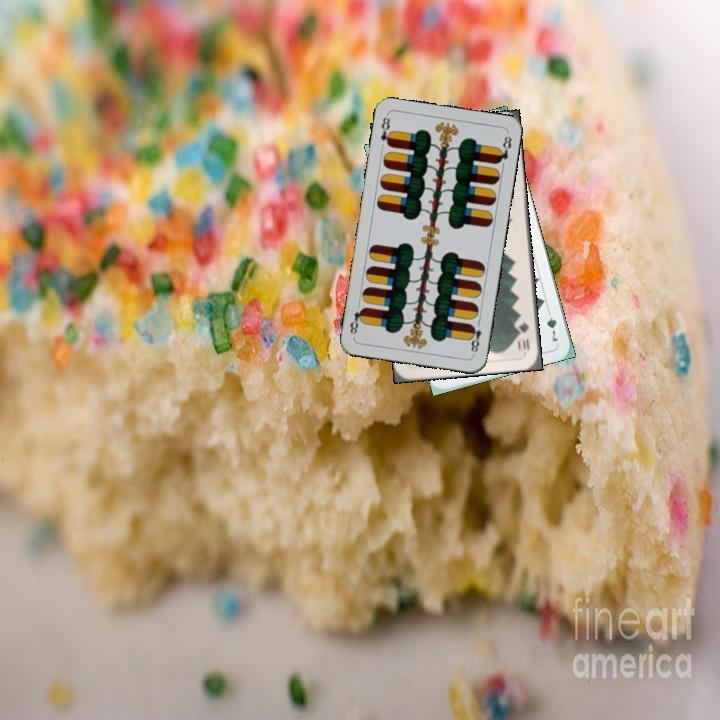E8: (465, 317, 484, 357), (376, 112, 395, 149)
G10: (514, 318, 532, 353)
G7: (543, 305, 561, 345)
